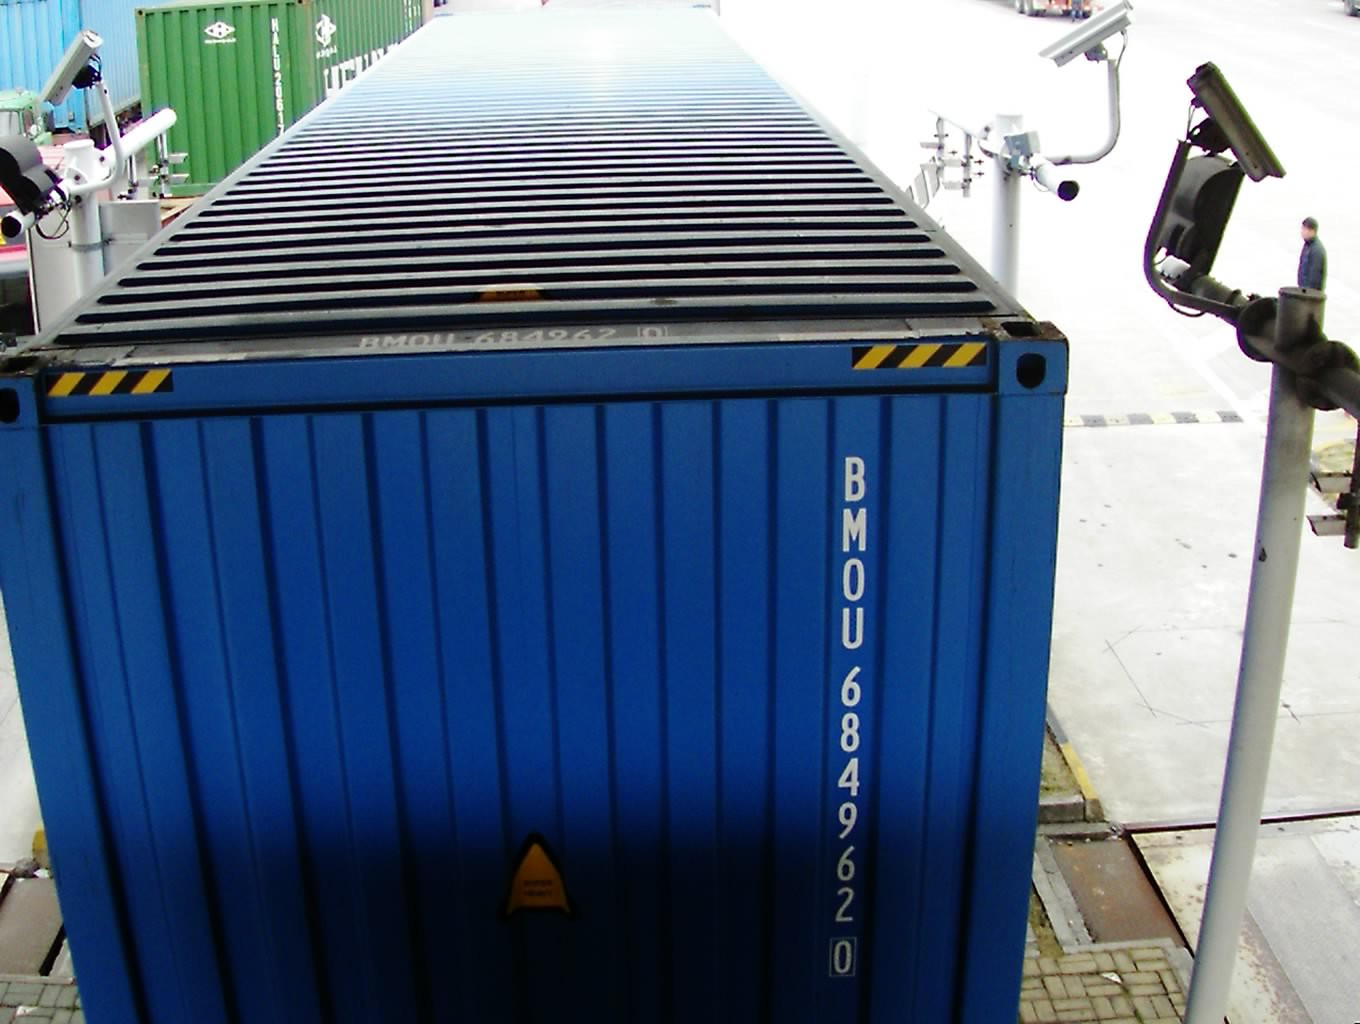words: (822, 443, 875, 979)
